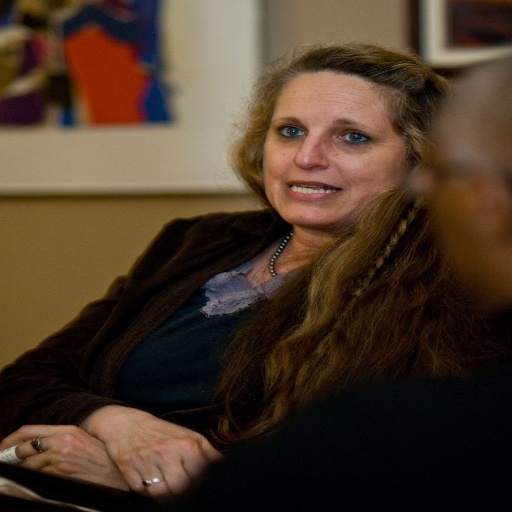hand: (100, 409, 223, 497), (0, 424, 135, 493)
